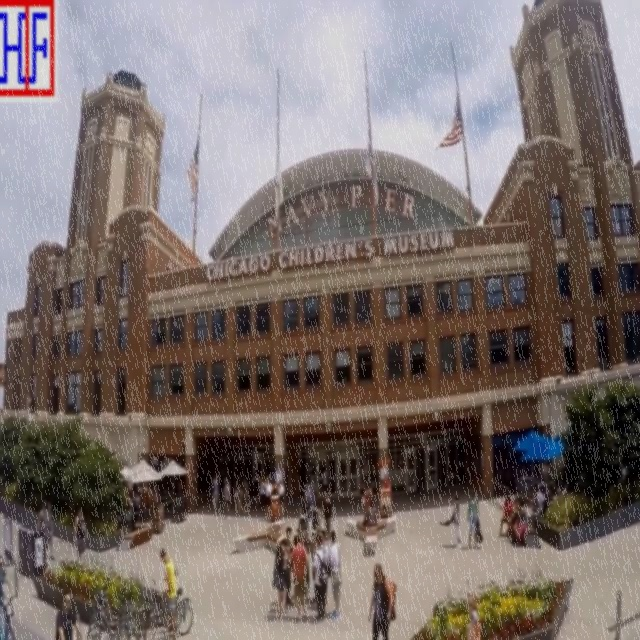pessoa: (118, 474, 184, 521), (368, 562, 398, 640), (530, 458, 570, 516), (158, 546, 180, 640), (291, 530, 309, 624), (54, 589, 86, 639), (271, 541, 289, 624), (314, 532, 328, 624), (439, 492, 461, 548), (0, 553, 14, 639), (506, 492, 528, 546), (466, 486, 484, 550), (36, 499, 52, 568), (330, 528, 342, 620), (280, 538, 294, 610), (320, 530, 332, 612), (300, 525, 312, 600), (320, 491, 336, 544), (289, 533, 300, 608), (284, 526, 294, 606), (498, 491, 514, 538), (466, 593, 482, 639), (74, 508, 88, 560), (233, 472, 249, 516), (46, 499, 56, 561), (362, 479, 374, 525), (262, 476, 274, 522), (466, 608, 482, 639), (210, 472, 220, 517), (251, 468, 261, 508), (367, 498, 379, 528), (300, 493, 312, 523), (224, 477, 232, 521), (381, 473, 390, 512), (278, 479, 286, 521), (311, 500, 321, 532), (259, 472, 267, 510), (310, 529, 318, 563), (322, 462, 328, 502), (284, 458, 290, 498), (222, 476, 228, 512), (216, 471, 220, 505)
